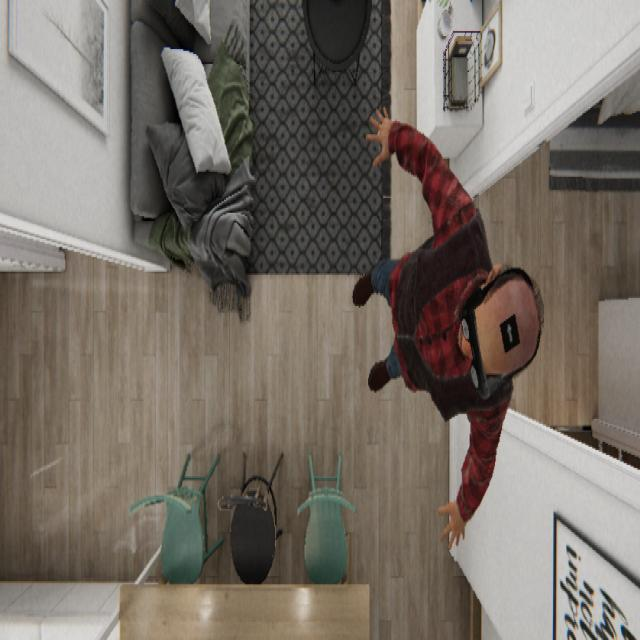Human: (351, 101, 544, 552)
UnityLogo: (469, 264, 544, 386), (498, 310, 520, 354)
